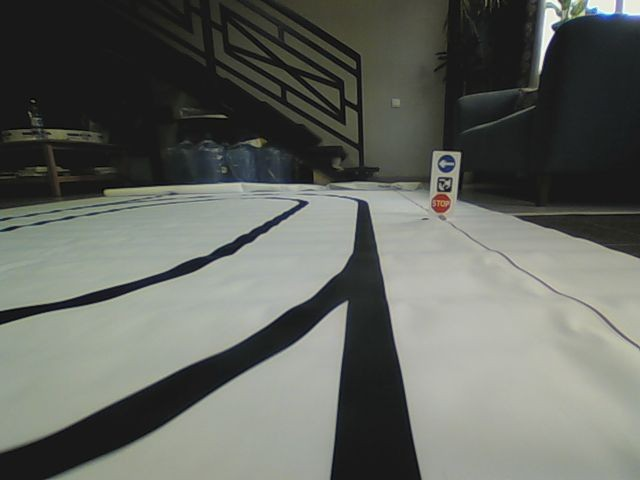Stop: (431, 193, 452, 214)
